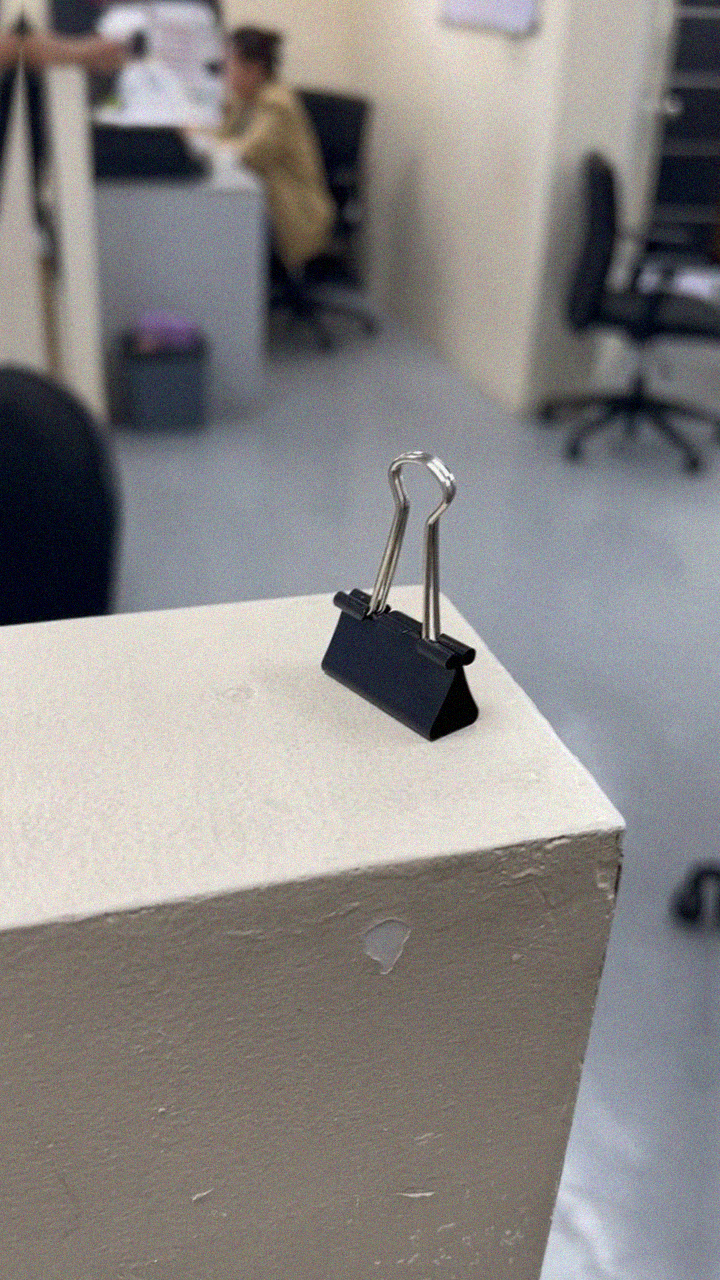kep_giay: (314, 444, 492, 747)
